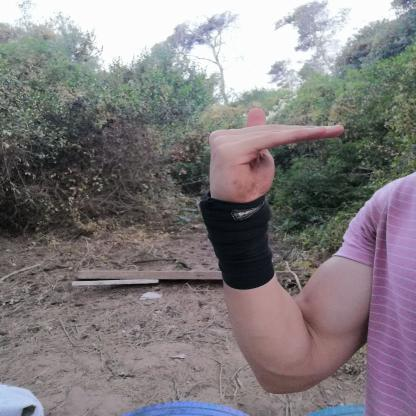KHAA: (188, 100, 358, 217)
